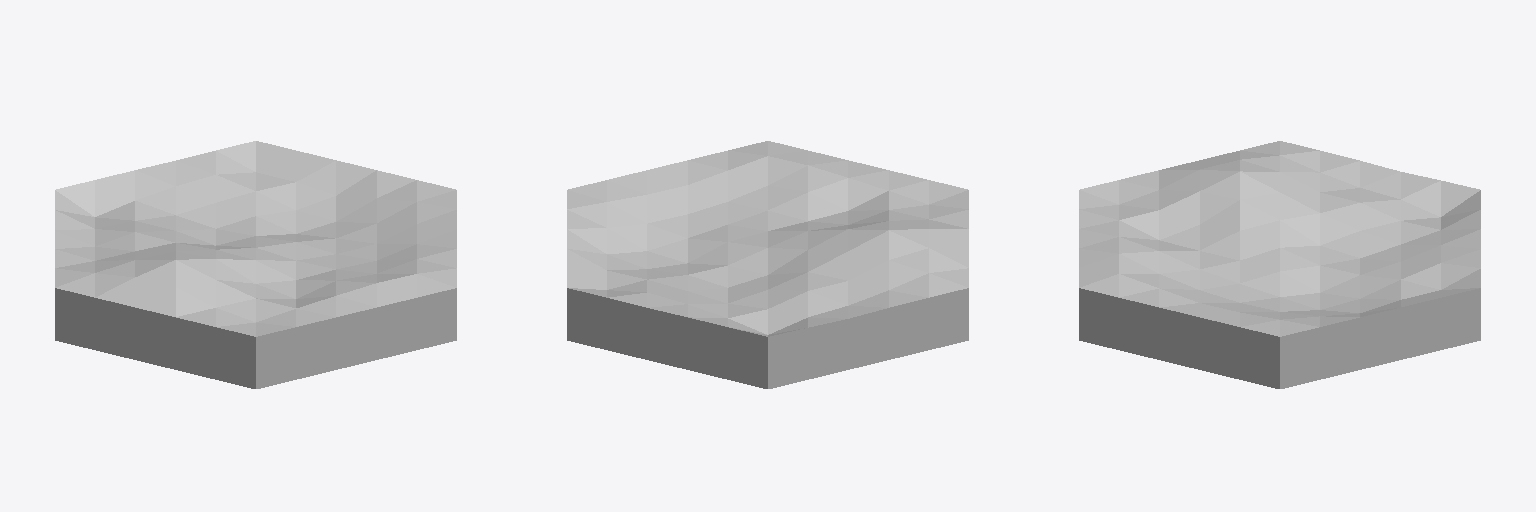
The model's file is clay.obj.
3 renders of one model, left to right at view 1: azimuth 30°, elevation 25°; view 2: azimuth 150°, elevation 25°; view 3: azimuth 270°, elevation 25°, orthographic.
Parts seen in each view (by area): view 1: Clay_Plane.005; view 2: Clay_Plane.005; view 3: Clay_Plane.005.
Boxes of the visible parts, <box> form: Clay_Plane.005: <box>55,141,456,388</box>; Clay_Plane.005: <box>567,141,968,388</box>; Clay_Plane.005: <box>1079,141,1480,388</box>.
Bounding box in the file's own units: 4 × 0.6737 × 3.46.